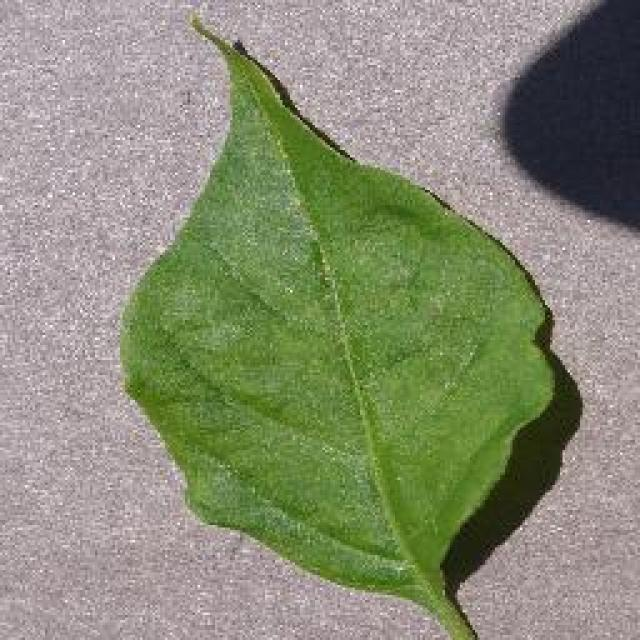Chilli_Healthy: (115, 10, 557, 638)
